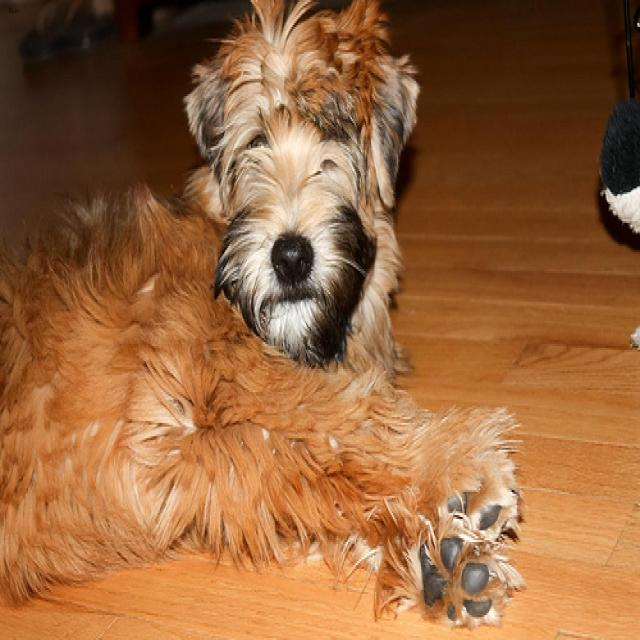dog-wheaten_terrier: (1, 2, 532, 636)
